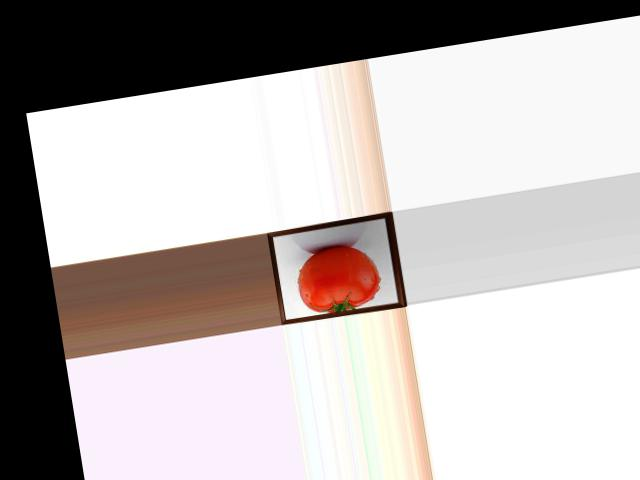tomato: (293, 240, 384, 317)
